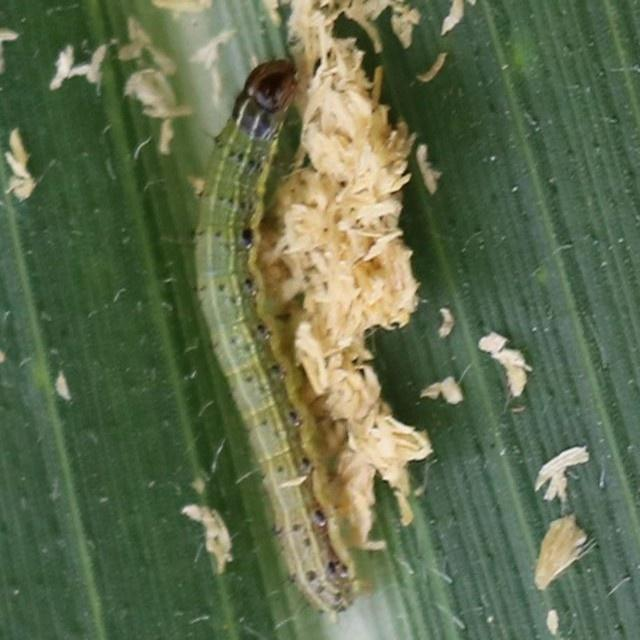gusano_cogollero: (188, 58, 356, 620)
